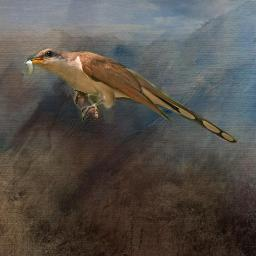Cuckoo: (20, 47, 238, 144)
